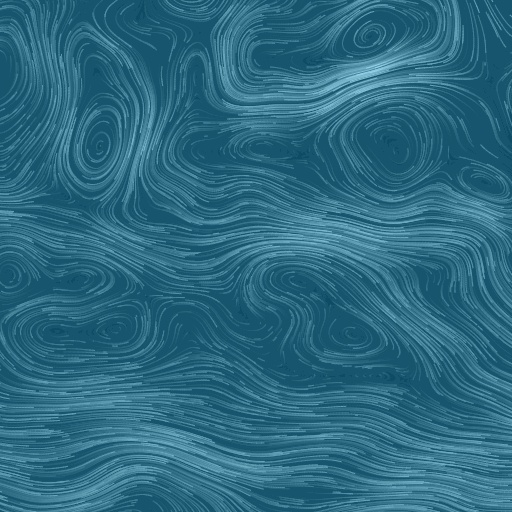eddy: (259, 261, 386, 361), (9, 297, 151, 359), (344, 98, 443, 183), (70, 88, 131, 185), (231, 126, 301, 162), (457, 162, 510, 202), (350, 18, 391, 54), (1, 254, 35, 292)
